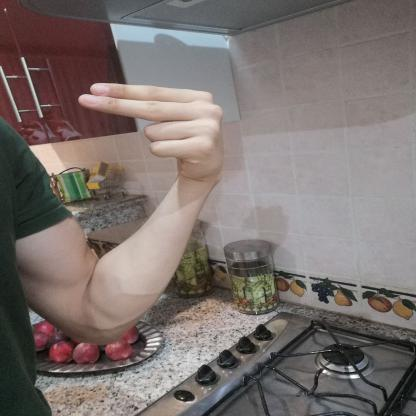AYN: (64, 66, 238, 188)
